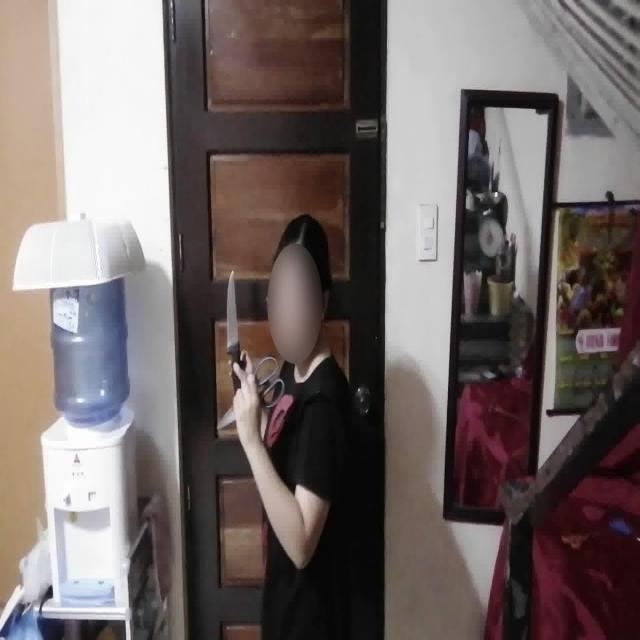scissor: (217, 353, 285, 431)
